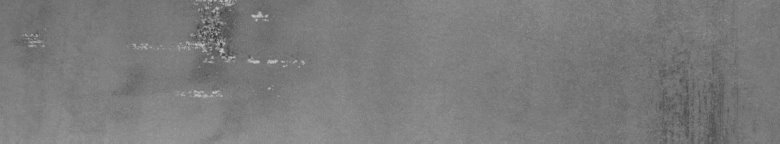hc: (114, 4, 305, 100)
